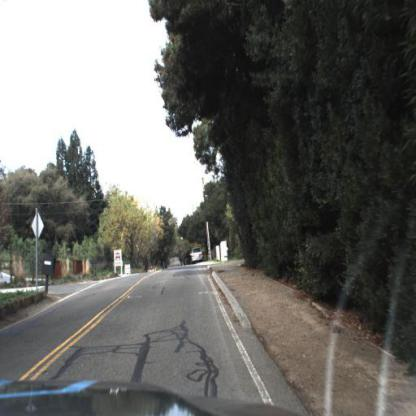car: (186, 243, 205, 270)
